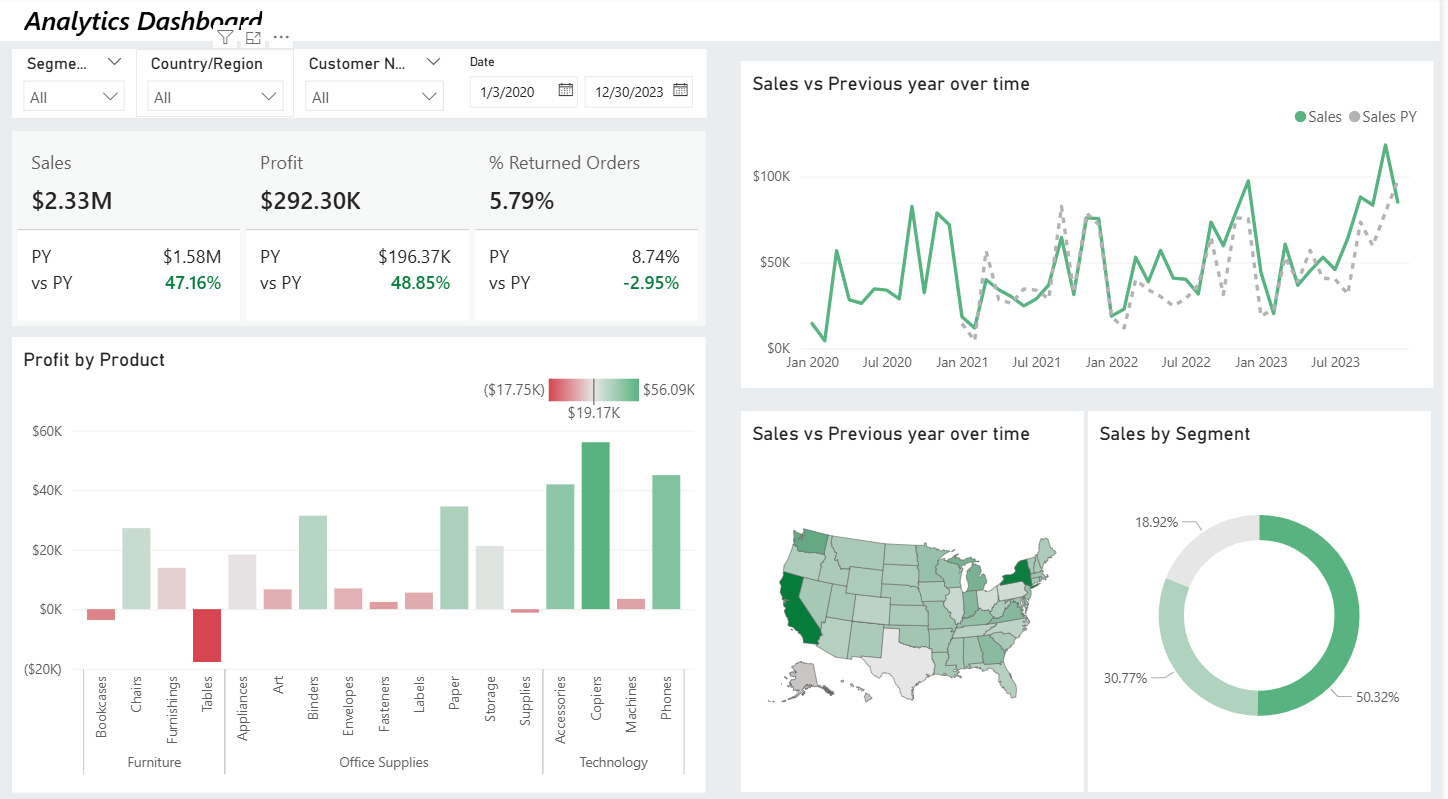

This screenshot's page, from the dashboard's own definition file:
{"tool":"powerbi","page":{"name":"Page 1","canvas":[1280,720],"ordinal":0},"visuals":[{"type":"cardVisual","fields":{"Data":["Key Measures.Sales","Key Measures.Profit","Key Measures.% Returned Orders"]},"box":[14.4,119,615.4,173.3],"z":0},{"type":"shape","box":[0,0,1280,39],"z":1000},{"type":"lineChart","title":"Sales vs Previous year over time","fields":{"Y":["Key Measures.Sales","Key Measures.Sales PY"],"Category":["Date Table.Start of Month"]},"box":[660.5,56.4,614.4,290.3],"z":2000},{"type":"columnChart","title":"Profit by Product","fields":{"Category":["Orders.Category","Orders.Sub-Category"],"Y":["Key Measures.Profit"]},"box":[14.4,301.5,615.4,404.1],"z":3000},{"type":"shapeMap","title":"Sales vs Previous year over time","fields":{"Value":["Key Measures.Profit"],"Category":["Orders.State/Province"]},"box":[660.5,367.2,303.6,338.5],"z":4000},{"type":"donutChart","title":"Sales by Segment","fields":{"Y":["Key Measures.Sales"],"Category":["Orders.Segment"]},"box":[968.2,367.2,303.6,338.5],"z":5000},{"type":"slicer","fields":{"Values":["Orders.Customer Name"]},"box":[264.6,46.2,142.6,60.5],"z":6000},{"type":"slicer","fields":{"Values":["Orders.Country/Region"]},"box":[124.1,46.2,140.5,60.5],"z":7000},{"type":"slicer","fields":{"Values":["Orders.Segment"]},"box":[14.4,46.2,109.7,60.5],"z":8000},{"type":"slicer","fields":{"Values":["Date Table.Date"]},"box":[407.2,46.2,222.6,60.5],"z":9000}]}

Visuals, with their boxes in screenshot pixels (x1, y1, x2, y2), scaled from the page's 1280x720 canvas onto the 1448x799 screenshot:
cardVisual - Key Measures.Sales x Key Measures.Profit: {"x1": 16, "y1": 132, "x2": 712, "y2": 324}
shape: {"x1": 0, "y1": 0, "x2": 1447, "y2": 43}
"Sales vs Previous year over time" lineChart: {"x1": 747, "y1": 63, "x2": 1442, "y2": 385}
"Profit by Product" columnChart: {"x1": 16, "y1": 335, "x2": 712, "y2": 783}
"Sales vs Previous year over time" shapeMap: {"x1": 747, "y1": 407, "x2": 1091, "y2": 783}
"Sales by Segment" donutChart: {"x1": 1095, "y1": 407, "x2": 1439, "y2": 783}
slicer - Orders.Customer Name: {"x1": 299, "y1": 51, "x2": 461, "y2": 118}
slicer - Orders.Country/Region: {"x1": 140, "y1": 51, "x2": 299, "y2": 118}
slicer - Orders.Segment: {"x1": 16, "y1": 51, "x2": 140, "y2": 118}
slicer - Date Table.Date: {"x1": 461, "y1": 51, "x2": 712, "y2": 118}
